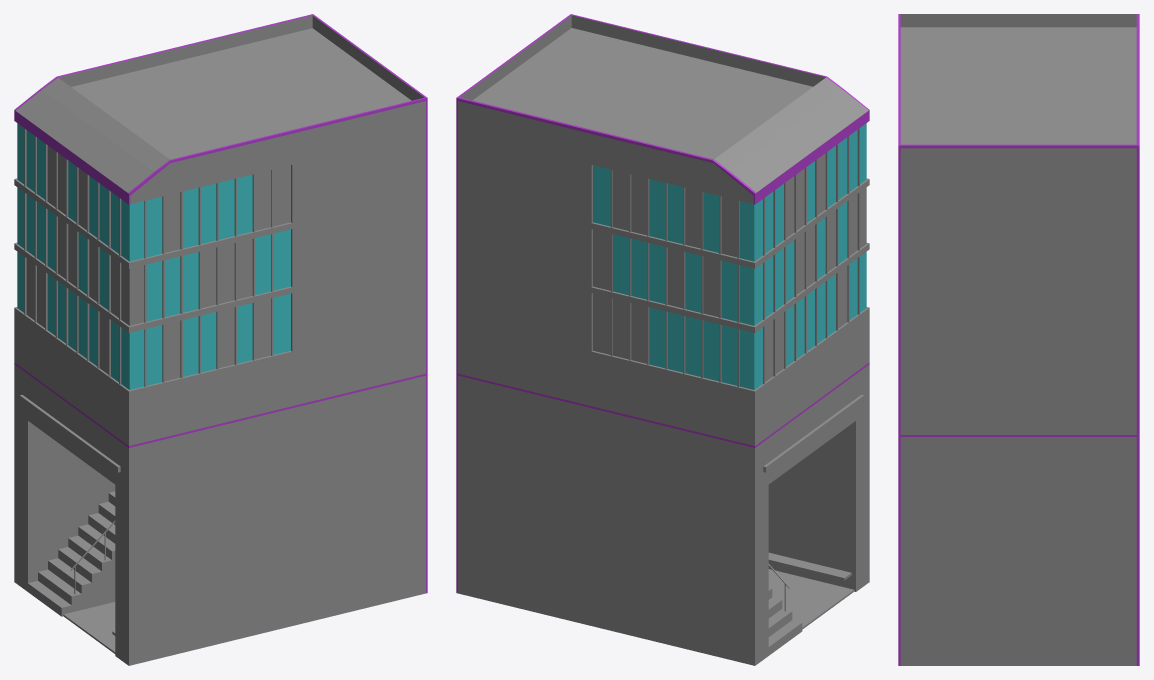
Rendered from buildings_S_02_VAR3 1.fbx.
3 views of the same model, side by side, from view 1: azimuth 30°, elevation 25°; view 2: azimuth 150°, elevation 25°; view 3: azimuth 270°, elevation 25° (orthographic). The views are drawn at different scales.
Parts seen in each view (by area): view 1: buildings_S_02_VAR3; view 2: buildings_S_02_VAR3; view 3: buildings_S_02_VAR3.
Boxes of the visible parts, <box> form: buildings_S_02_VAR3: <box>14,14,427,665</box>; buildings_S_02_VAR3: <box>456,14,869,665</box>; buildings_S_02_VAR3: <box>898,14,1139,665</box>.
Size of the model in its own units: 12.61 by 19.78 by 8.3.
